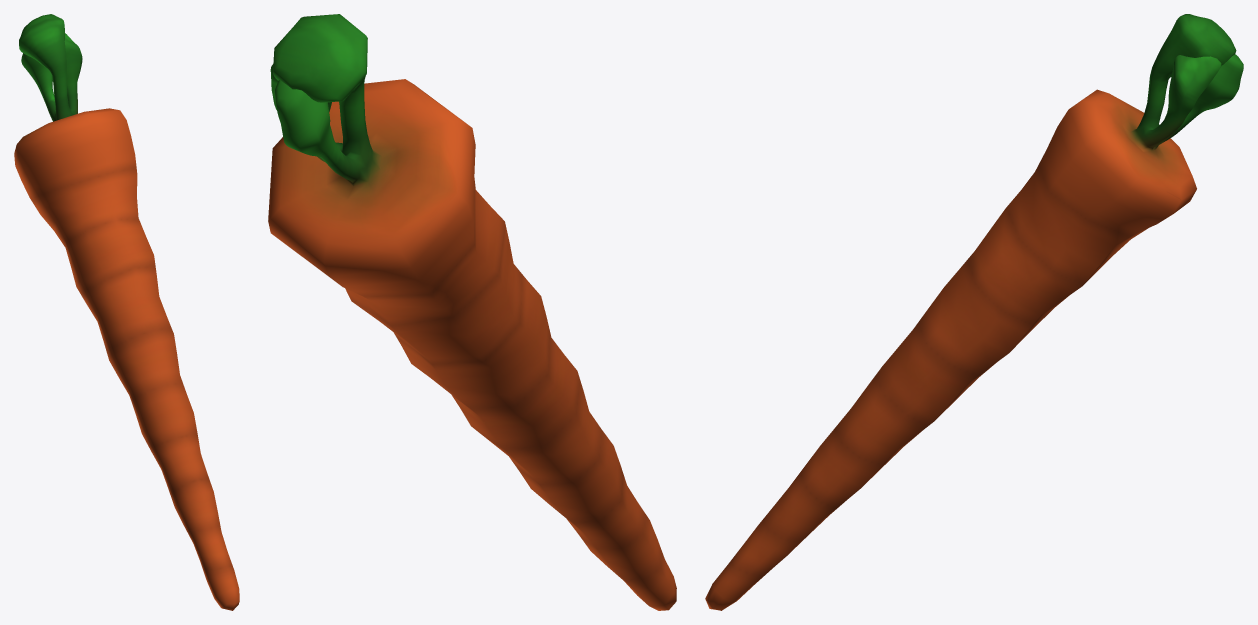
The model's file is carrot.glb.
The picture shows the model from 3 angles, left to right: view 1: azimuth 30°, elevation 25°; view 2: azimuth 150°, elevation 25°; view 3: azimuth 270°, elevation 25°; orthographic projection. The views are drawn at different scales.
Parts seen in each view (by area): view 1: Carrot; view 2: Carrot; view 3: Carrot.
Part boxes in pixels (x1=…): Carrot: x1=14, y1=14, x2=239, y2=610; Carrot: x1=268, y1=14, x2=676, y2=610; Carrot: x1=705, y1=14, x2=1243, y2=610.
Bounding box in the file's own units: 0.295 × 1.22 × 1.
Materials: 1 (1 with a texture image).
